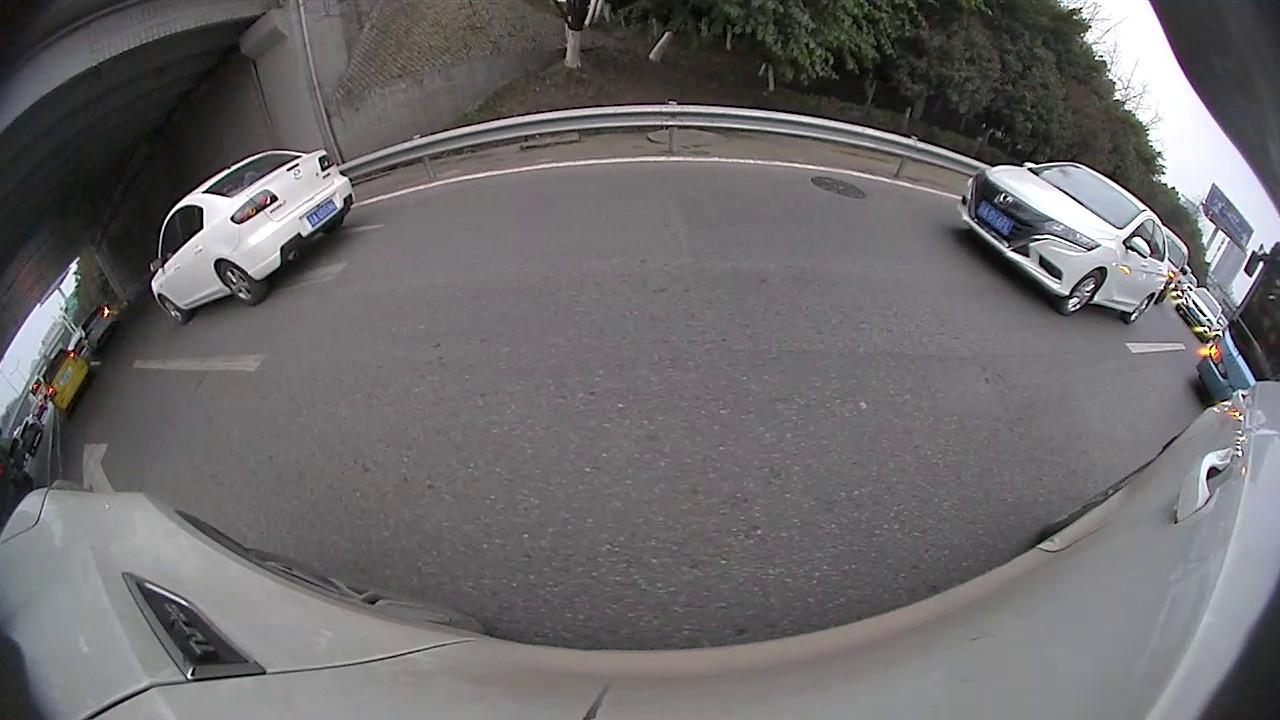bus: (1196, 239, 1279, 413)
car: (146, 143, 358, 327), (954, 156, 1174, 324), (33, 343, 92, 418), (1177, 281, 1225, 341)
front: (1060, 267, 1103, 316), (154, 294, 188, 326)
rear: (216, 257, 265, 307), (1126, 292, 1154, 324)
